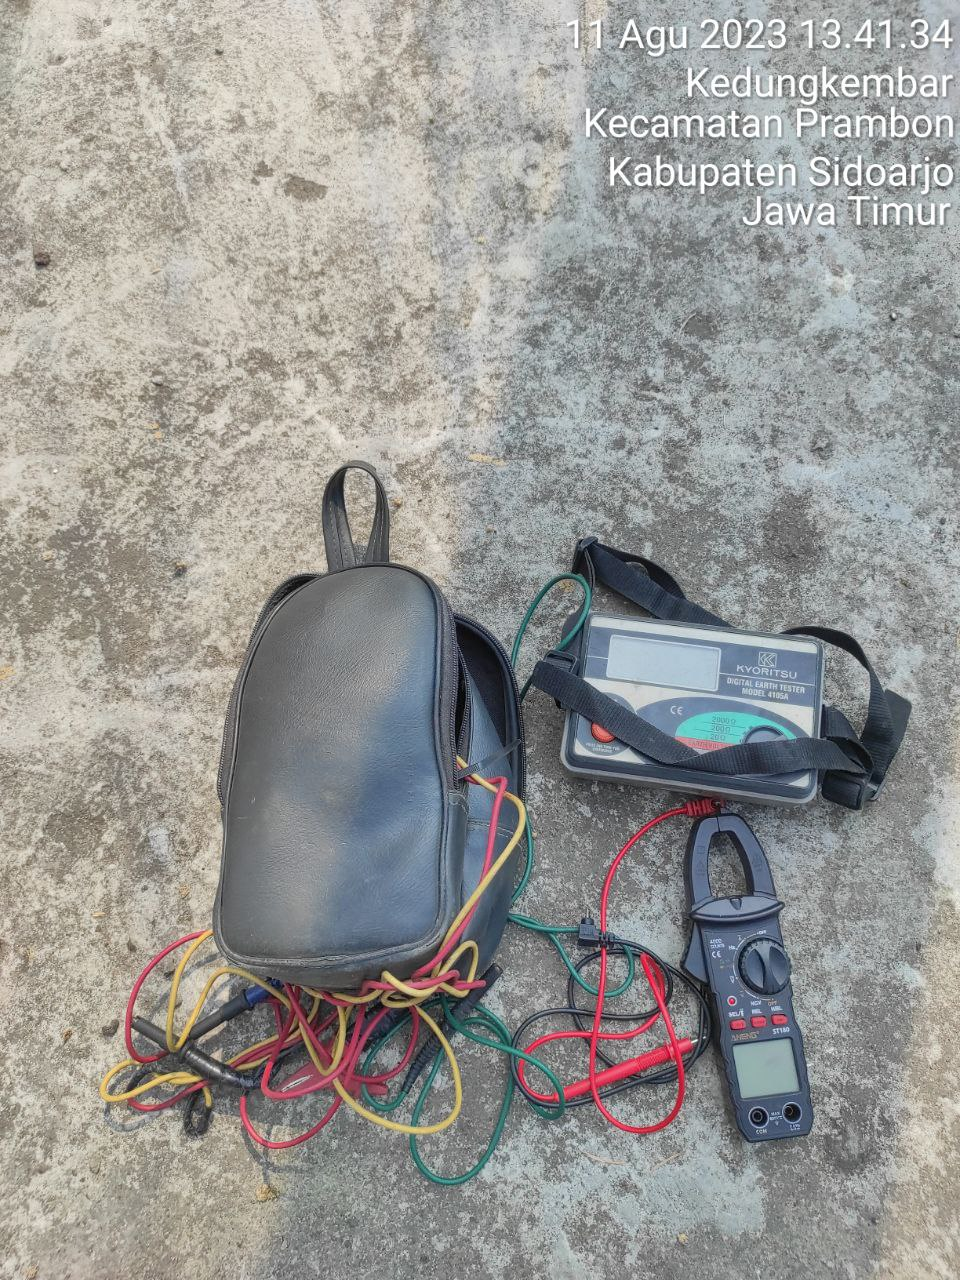EARTH_GROUNDING_TESTER: (558, 610, 822, 807)
TANG_AMPERE: (680, 807, 824, 1143)
